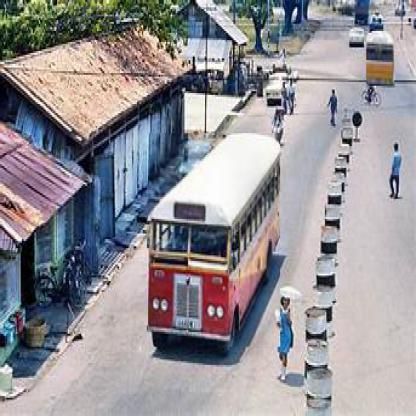bus: (147, 134, 281, 350), (366, 34, 395, 88)
car: (269, 72, 287, 109), (349, 30, 365, 50)
